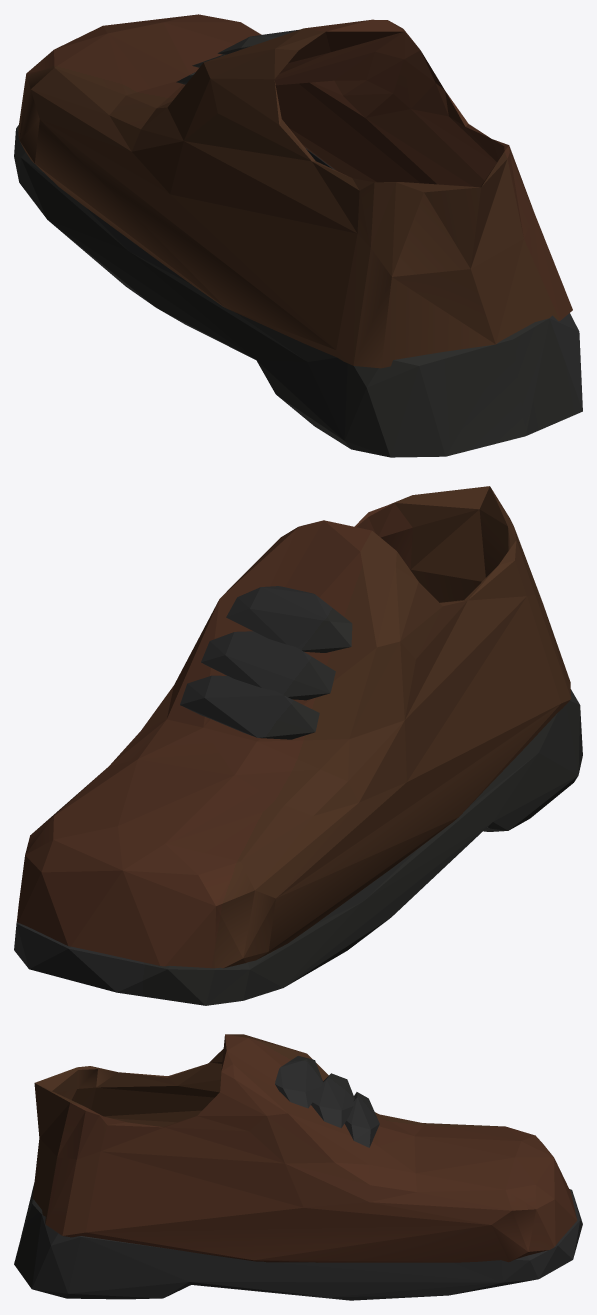
File: Prefab_Array_Shoe.glb
3 views of the same model, one above another, from view 1: azimuth 30°, elevation 25°; view 2: azimuth 150°, elevation 25°; view 3: azimuth 270°, elevation 25° (orthographic). The views are drawn at different scales.
Parts seen in each view (by area): view 1: Cube.001; view 2: Cube.001; view 3: Cube.001.
Part boxes in pixels (x1,y1,x2,y2): Cube.001: (14,14,582,457); Cube.001: (14,486,582,1005); Cube.001: (14,1034,582,1300).
Size of the model in its own units: 0.0822 by 0.107 by 0.2457.
Materials: 1 (1 with a texture image).
